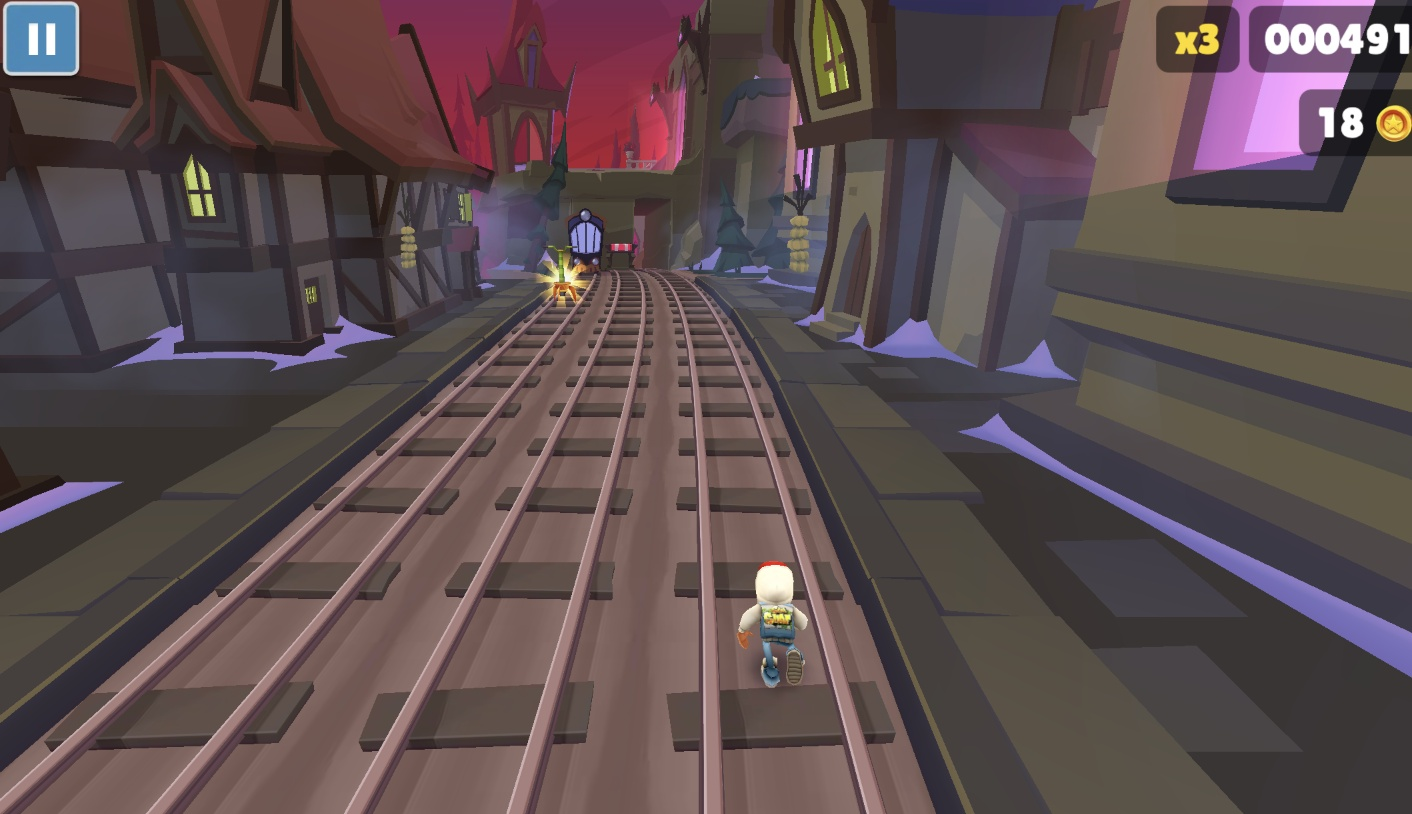ground_barrier: (603, 244, 638, 271)
train: (564, 208, 607, 279)
